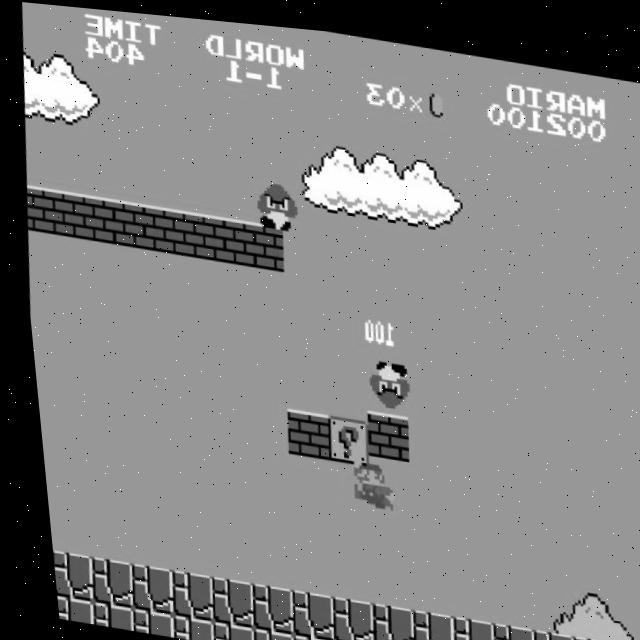1- brick_block: (276, 402, 323, 455), (194, 210, 242, 261), (114, 198, 162, 249), (74, 192, 122, 243), (34, 187, 82, 238), (235, 216, 282, 267), (155, 204, 202, 255), (19, 184, 41, 232)
11- little_mario: (342, 448, 392, 504)
13- mystery_block: (316, 408, 364, 461)
17- undestructible_block: (196, 572, 244, 625), (277, 584, 325, 636), (76, 555, 124, 607), (237, 578, 284, 631), (157, 567, 204, 619), (117, 561, 164, 613), (317, 590, 365, 640), (42, 549, 83, 601), (357, 596, 405, 640), (397, 601, 445, 640), (437, 607, 485, 640), (118, 606, 163, 635), (78, 600, 123, 629), (477, 613, 525, 640), (158, 612, 203, 640), (45, 595, 82, 624), (198, 618, 243, 640), (518, 619, 565, 640), (558, 624, 606, 640), (238, 624, 283, 640), (278, 629, 323, 640), (598, 630, 640, 640), (319, 635, 363, 640)
8- goomba: (249, 171, 299, 227)
